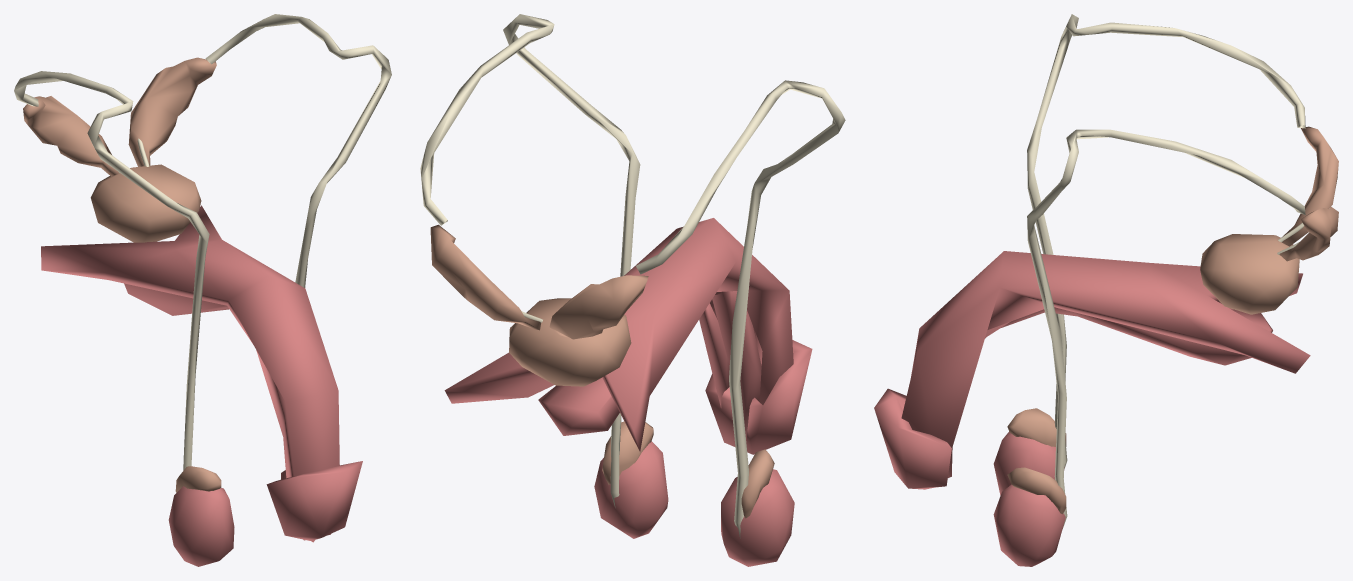
File: adult_male.reproductive.LOD3.glb
3 renders of one model, left to right at view 1: azimuth 30°, elevation 25°; view 2: azimuth 150°, elevation 25°; view 3: azimuth 270°, elevation 25°, orthographic. The views are drawn at different scales.
Parts seen in each view (by area): view 1: ADULT.MALE.REPRODUCTIVE.CORPUS_CAVERNOSUM_OF_PENIS, ADULT.MALE.REPRODUCTIVE.PROSTATE, ADULT.MALE.REPRODUCTIVE.DUCTUS_DEFERENS.R, ADULT.MALE.REPRODUCTIVE.GLANS_PENIS, ADULT.MALE.REPRODUCTIVE.SEMINAL_GLAND.L, ADULT.MALE.REPRODUCTIVE.TESTIS, ADULT.MALE.REPRODUCTIVE.DUCTUS_DEFERENS.L, ADULT.MALE.REPRODUCTIVE.SEMINAL_GLAND.R, ADULT.MALE.REPRODUCTIVE.CORPUS_SPONGIOSUM_OF_PENIS, ADULT.MALE.REPRODUCTIVE.EPIDIDYMIS.R; view 2: ADULT.MALE.REPRODUCTIVE.CORPUS_CAVERNOSUM_OF_PENIS, ADULT.MALE.REPRODUCTIVE.DUCTUS_DEFERENS.R, ADULT.MALE.REPRODUCTIVE.DUCTUS_DEFERENS.L, ADULT.MALE.REPRODUCTIVE.PROSTATE, ADULT.MALE.REPRODUCTIVE.CORPUS_SPONGIOSUM_OF_PENIS, ADULT.MALE.REPRODUCTIVE.GLANS_PENIS, ADULT.MALE.REPRODUCTIVE.TESTIS, ADULT.MALE.REPRODUCTIVE.TESTIS.L, ADULT.MALE.REPRODUCTIVE.SEMINAL_GLAND.R, ADULT.MALE.REPRODUCTIVE.SEMINAL_GLAND.L, ADULT.MALE.REPRODUCTIVE.EPIDIDYMIS.L, ADULT.MALE.REPRODUCTIVE.EPIDIDYMIS.R; view 3: ADULT.MALE.REPRODUCTIVE.CORPUS_CAVERNOSUM_OF_PENIS, ADULT.MALE.REPRODUCTIVE.PROSTATE, ADULT.MALE.REPRODUCTIVE.DUCTUS_DEFERENS.L, ADULT.MALE.REPRODUCTIVE.DUCTUS_DEFERENS.R, ADULT.MALE.REPRODUCTIVE.GLANS_PENIS, ADULT.MALE.REPRODUCTIVE.TESTIS.L, ADULT.MALE.REPRODUCTIVE.CORPUS_SPONGIOSUM_OF_PENIS, ADULT.MALE.REPRODUCTIVE.SEMINAL_GLAND.R, ADULT.MALE.REPRODUCTIVE.TESTIS, ADULT.MALE.REPRODUCTIVE.SEMINAL_GLAND.L, ADULT.MALE.REPRODUCTIVE.EPIDIDYMIS.R, ADULT.MALE.REPRODUCTIVE.EPIDIDYMIS.L.
Part boxes in pixels (x1,y1,x2,y2): ADULT.MALE.REPRODUCTIVE.CORPUS_CAVERNOSUM_OF_PENIS: (41,205,339,542); ADULT.MALE.REPRODUCTIVE.PROSTATE: (90,164,201,242); ADULT.MALE.REPRODUCTIVE.DUCTUS_DEFERENS.R: (14,71,209,470); ADULT.MALE.REPRODUCTIVE.GLANS_PENIS: (266,461,362,540); ADULT.MALE.REPRODUCTIVE.SEMINAL_GLAND.L: (128,57,216,166); ADULT.MALE.REPRODUCTIVE.TESTIS: (168,486,234,566); ADULT.MALE.REPRODUCTIVE.DUCTUS_DEFERENS.L: (205,14,391,287); ADULT.MALE.REPRODUCTIVE.SEMINAL_GLAND.R: (23,96,119,176); ADULT.MALE.REPRODUCTIVE.CORPUS_SPONGIOSUM_OF_PENIS: (124,283,228,315); ADULT.MALE.REPRODUCTIVE.EPIDIDYMIS.R: (175,466,221,492); ADULT.MALE.REPRODUCTIVE.CORPUS_CAVERNOSUM_OF_PENIS: (444,218,793,451); ADULT.MALE.REPRODUCTIVE.DUCTUS_DEFERENS.R: (636,80,845,538); ADULT.MALE.REPRODUCTIVE.DUCTUS_DEFERENS.L: (420,14,640,507); ADULT.MALE.REPRODUCTIVE.PROSTATE: (509,298,631,386); ADULT.MALE.REPRODUCTIVE.CORPUS_SPONGIOSUM_OF_PENIS: (538,291,761,443); ADULT.MALE.REPRODUCTIVE.GLANS_PENIS: (705,340,812,454); ADULT.MALE.REPRODUCTIVE.TESTIS: (721,469,794,566); ADULT.MALE.REPRODUCTIVE.TESTIS.L: (594,441,668,538); ADULT.MALE.REPRODUCTIVE.SEMINAL_GLAND.R: (549,275,648,339); ADULT.MALE.REPRODUCTIVE.SEMINAL_GLAND.L: (430,224,540,330); ADULT.MALE.REPRODUCTIVE.EPIDIDYMIS.L: (602,421,653,484); ADULT.MALE.REPRODUCTIVE.EPIDIDYMIS.R: (741,449,774,518); ADULT.MALE.REPRODUCTIVE.CORPUS_CAVERNOSUM_OF_PENIS: (901,251,1310,447); ADULT.MALE.REPRODUCTIVE.PROSTATE: (1200,234,1299,314); ADULT.MALE.REPRODUCTIVE.DUCTUS_DEFERENS.L: (1027,129,1305,528); ADULT.MALE.REPRODUCTIVE.DUCTUS_DEFERENS.R: (1027,14,1305,468); ADULT.MALE.REPRODUCTIVE.GLANS_PENIS: (874,388,951,489); ADULT.MALE.REPRODUCTIVE.TESTIS.L: (993,484,1065,566); ADULT.MALE.REPRODUCTIVE.CORPUS_SPONGIOSUM_OF_PENIS: (948,307,1272,477); ADULT.MALE.REPRODUCTIVE.SEMINAL_GLAND.R: (1281,126,1338,246); ADULT.MALE.REPRODUCTIVE.TESTIS: (993,431,1064,495); ADULT.MALE.REPRODUCTIVE.SEMINAL_GLAND.L: (1279,207,1338,261); ADULT.MALE.REPRODUCTIVE.EPIDIDYMIS.R: (1007,408,1066,446); ADULT.MALE.REPRODUCTIVE.EPIDIDYMIS.L: (1007,467,1066,514).
Bounding box in the file's own units: 0.113 × 0.1657 × 0.1508.
